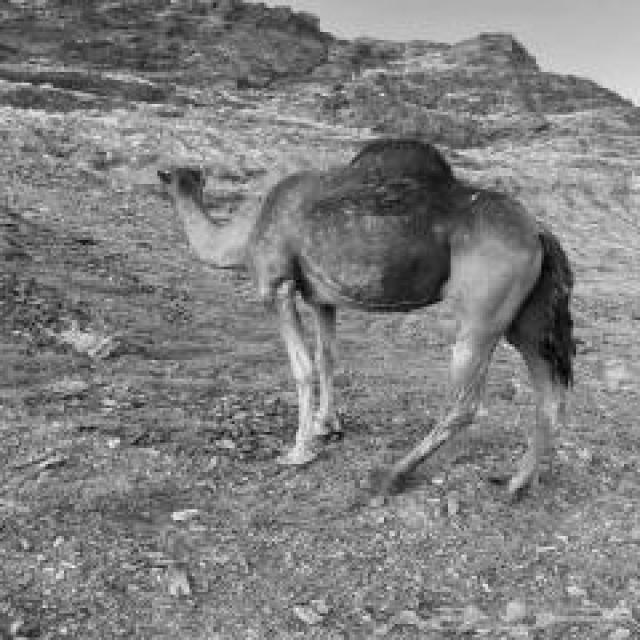Camel: (154, 136, 578, 504)
